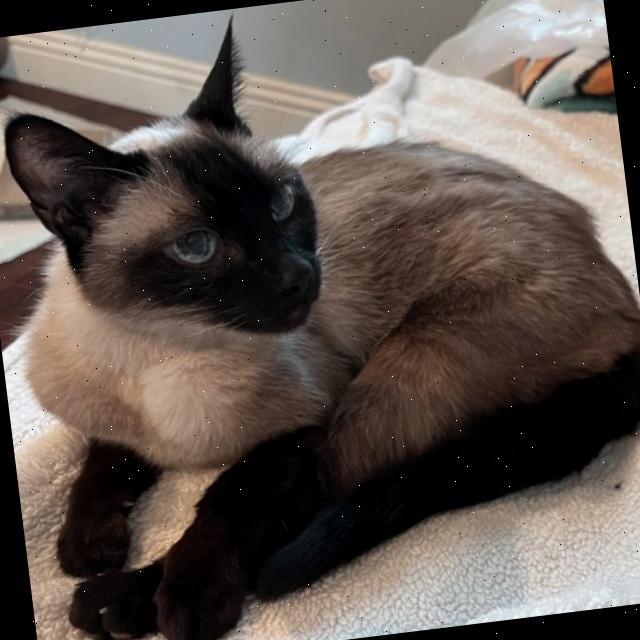siamese_cat: (0, 3, 380, 396)
